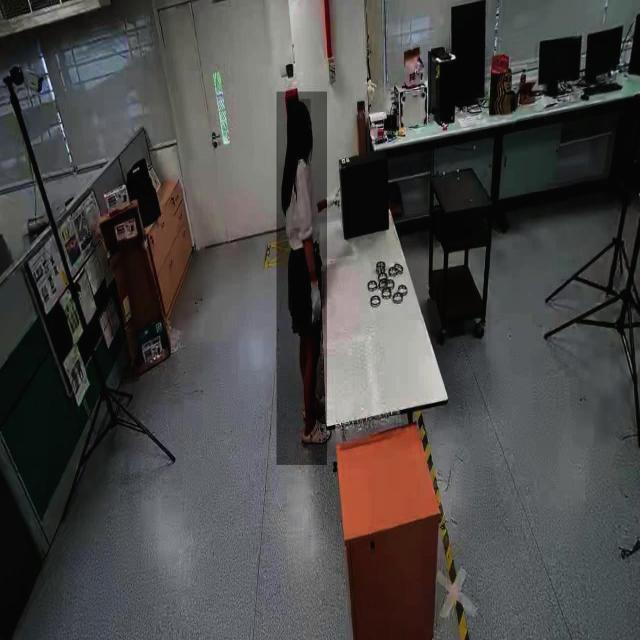hand_glove: (306, 271, 326, 325)
head_nohelmet: (288, 99, 310, 121)
person: (276, 92, 327, 466)
